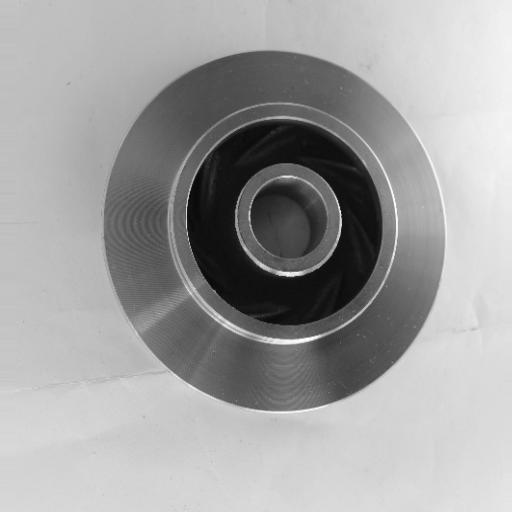polished_casting: (102, 46, 448, 414)
